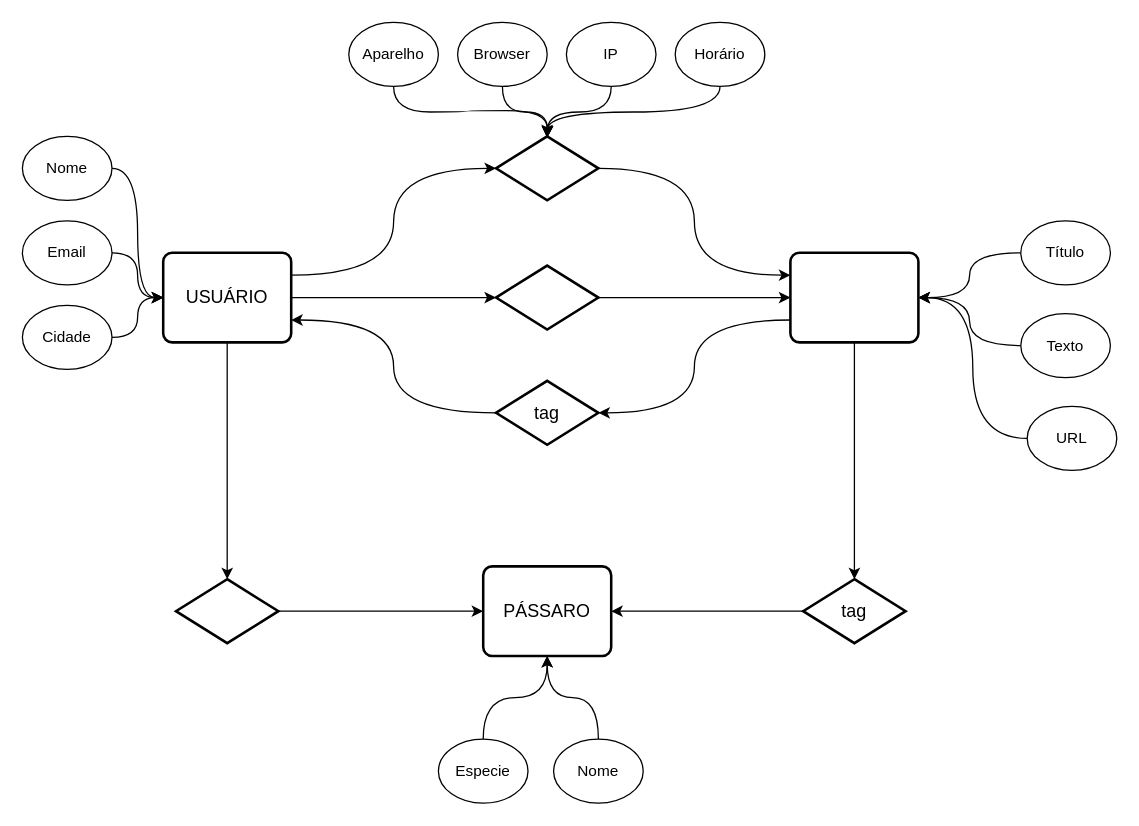
Some shapes in this 1139 by 826 pixel diagram are drawn without their labels. Each missing label, with the centre of its shape:
cria: the point at 546,297
POST: the point at 853,297
prefere: the point at 226,610
visualiza: the point at 546,167
